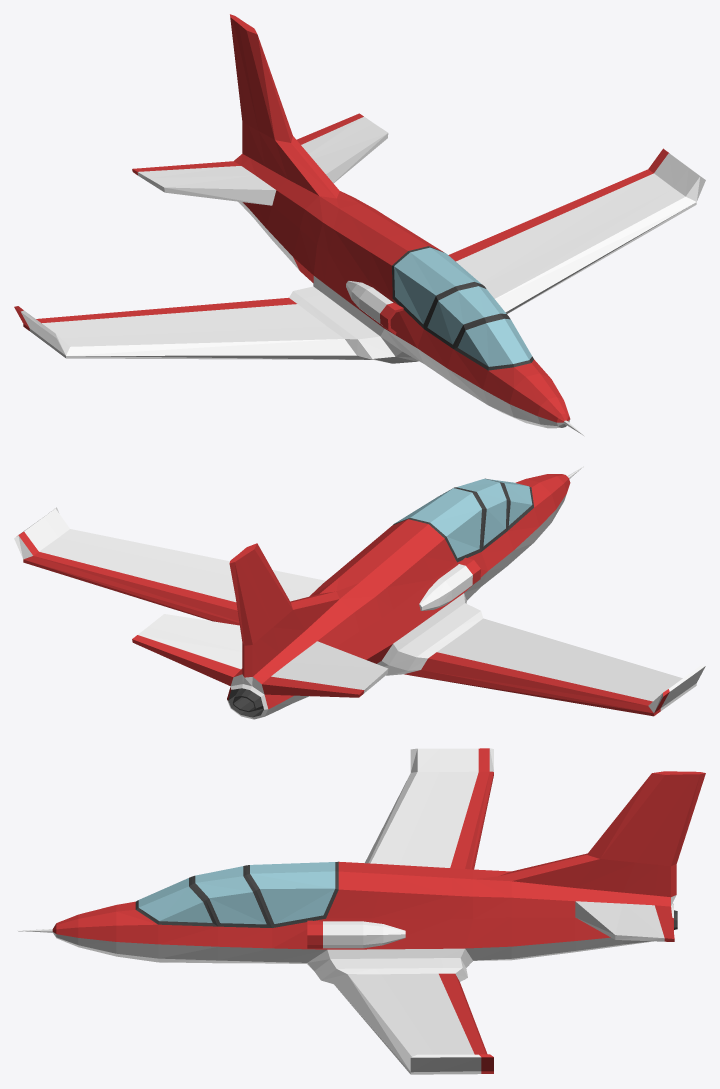
The model's file is Jet-optimized.glb.
The picture shows the model from 3 angles, top to bottom: view 1: azimuth 30°, elevation 25°; view 2: azimuth 150°, elevation 25°; view 3: azimuth 270°, elevation 25°; orthographic projection. The views are drawn at different scales.
Parts seen in each view (by area): view 1: Jet; view 2: Jet; view 3: Jet.
Part boxes in pixels (<box>): Jet: <box>14,14,705,435</box>; Jet: <box>14,466,705,719</box>; Jet: <box>17,748,705,1074</box>.
Bounding box in the file's own units: 137 × 39.59 × 130.
Materials: 1 (1 with a texture image).
